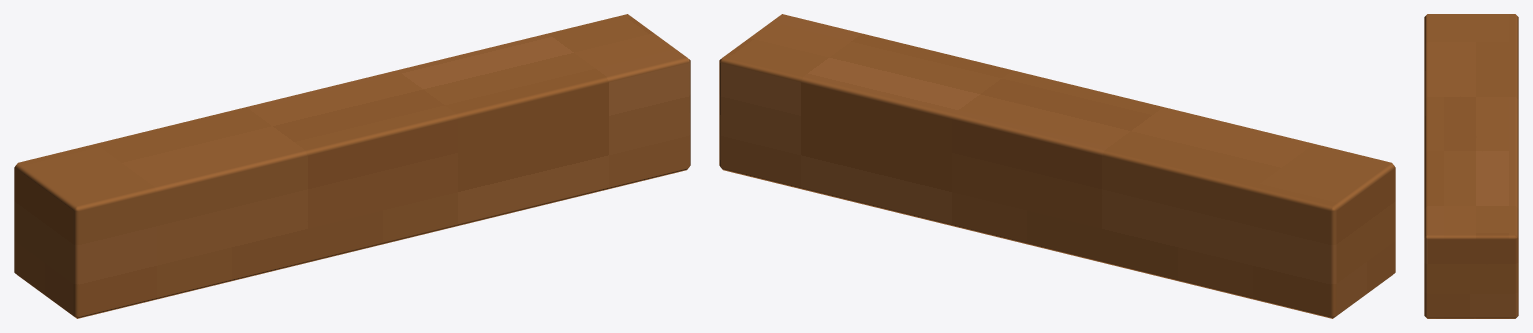
File: Top-rail.glb
3 renders of one model, left to right at view 1: azimuth 30°, elevation 25°; view 2: azimuth 150°, elevation 25°; view 3: azimuth 270°, elevation 25°, orthographic. The views are drawn at different scales.
Parts seen in each view (by area): view 1: Top-rail; view 2: Top-rail; view 3: Top-rail.
Part boxes in pixels (x1,y1,x2,y2): Top-rail: (14, 14, 690, 318); Top-rail: (719, 14, 1395, 318); Top-rail: (1424, 14, 1518, 318).
Size of the model in its own units: 0.32 by 0.056 by 0.057.
Materials: 1 (1 with a texture image).
